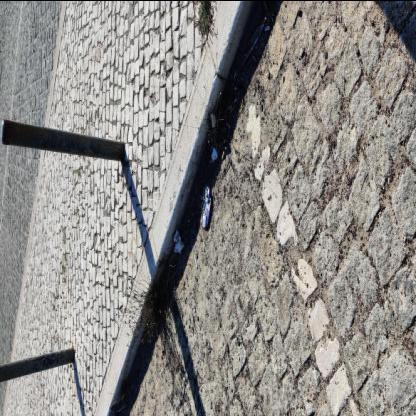Can: (201, 184, 211, 226)
Cigarette: (233, 66, 237, 78), (194, 253, 197, 267), (222, 150, 226, 159), (226, 120, 230, 128), (254, 54, 258, 62), (201, 198, 204, 208), (228, 103, 232, 109), (266, 24, 270, 30), (201, 205, 204, 211), (200, 215, 202, 223), (210, 158, 214, 162)
Paper: (174, 230, 184, 252), (211, 146, 217, 162), (211, 110, 217, 126)
Plastic bag - wrapper: (231, 16, 267, 76)
Pop tab: (205, 186, 208, 195)
